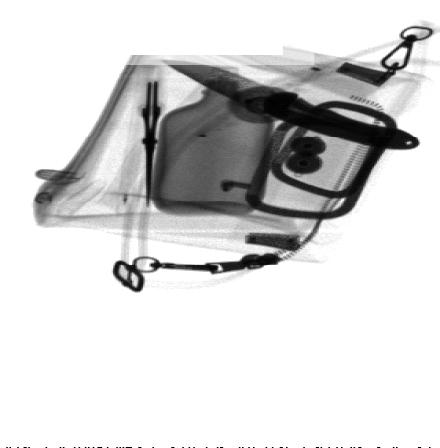Knife: (155, 58, 421, 149)
Scissors: (108, 45, 213, 207)
